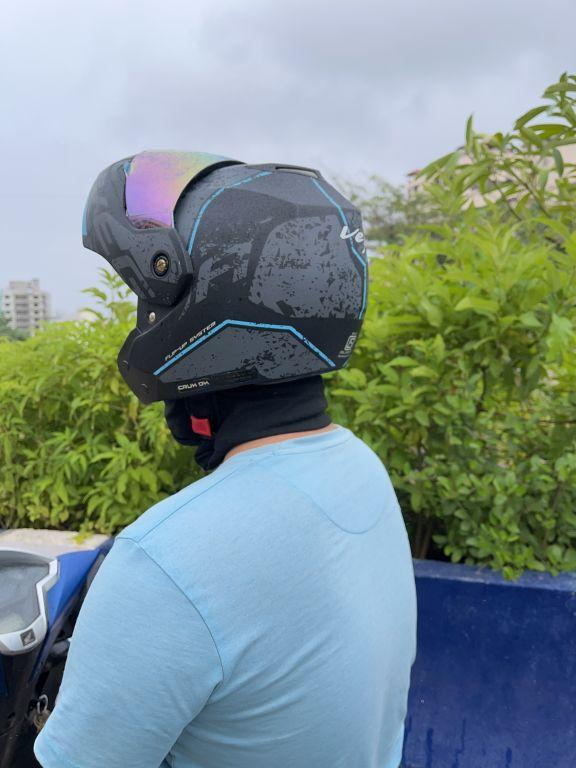helmet: (80, 137, 378, 430)
